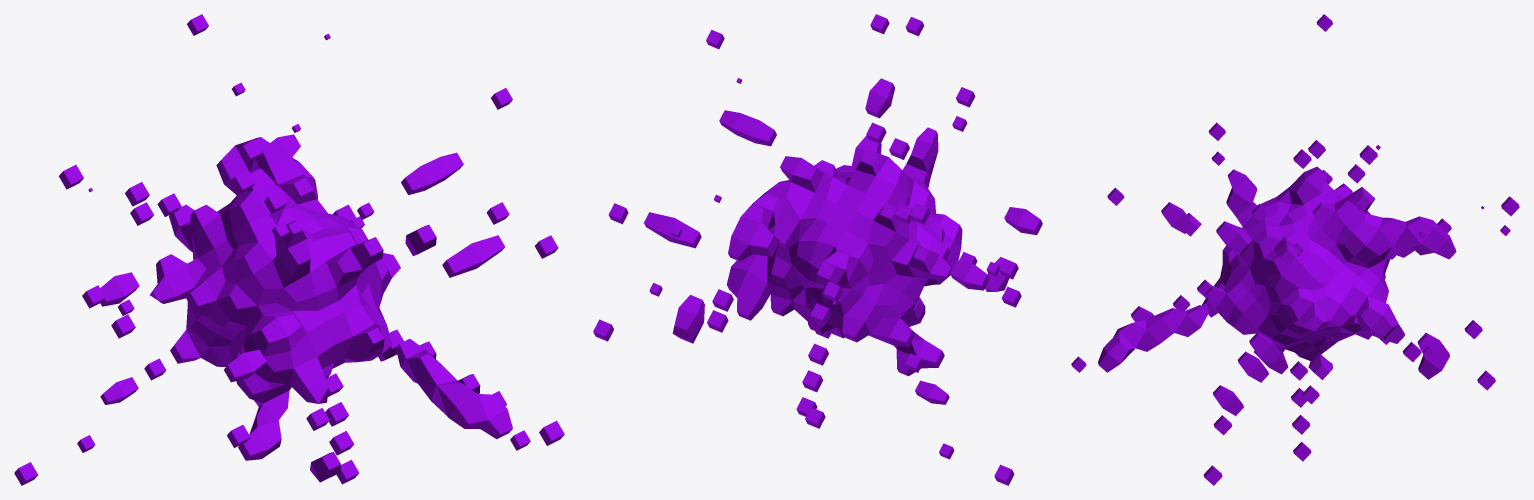
The model's file is rotate2.fbx.
The picture shows the model from 3 angles, left to right: view 1: azimuth 30°, elevation 25°; view 2: azimuth 150°, elevation 25°; view 3: azimuth 270°, elevation 25°; orthographic projection. The views are drawn at different scales.
Visible parts, largest first — view 1: Volume_Mesher; view 2: Volume_Mesher; view 3: Volume_Mesher.
Part boxes in pixels (x1=…): Volume_Mesher: x1=14, y1=14, x2=564, y2=485; Volume_Mesher: x1=593, y1=14, x2=1042, y2=485; Volume_Mesher: x1=1071, y1=14, x2=1519, y2=485.
Size of the model in its own units: 48.97 by 46.67 by 48.25.
